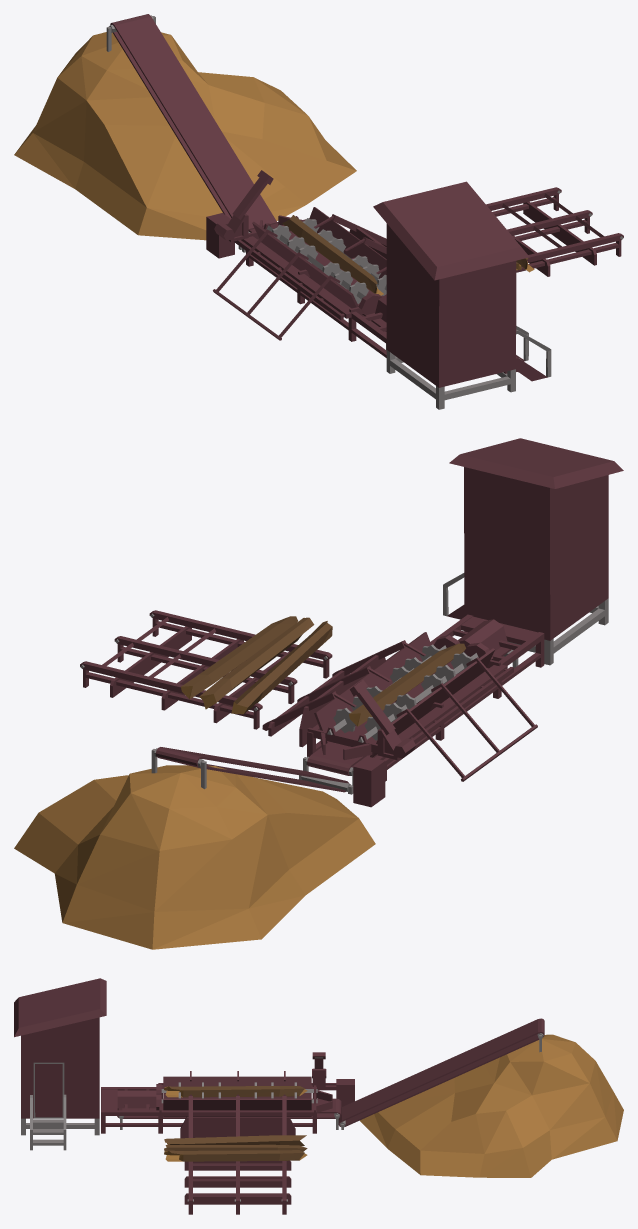
Rendered from SM_Debarker.fbx.
The picture shows the model from 3 angles, top to bottom: view 1: azimuth 30°, elevation 25°; view 2: azimuth 150°, elevation 25°; view 3: azimuth 270°, elevation 25°; orthographic projection. The views are drawn at different scales.
Visible parts, largest first — view 1: SM_Debarker_Base, SM_Debarker_Wheels_B, SM_Debarker_Arm, SM_Debarker_Wheels_A; view 2: SM_Debarker_Base, SM_Debarker_Wheels_B, SM_Debarker_Arm, SM_Debarker_Wheels_A; view 3: SM_Debarker_Base, SM_Debarker_Arm.
Boxes of the visible parts, x1=… form: SM_Debarker_Base: x1=14, y1=14, x2=623, y2=409; SM_Debarker_Wheels_B: x1=266, y1=224, x2=368, y2=303; SM_Debarker_Arm: x1=214, y1=170, x2=273, y2=242; SM_Debarker_Wheels_A: x1=303, y1=218, x2=386, y2=295; SM_Debarker_Base: x1=14, y1=438, x2=623, y2=949; SM_Debarker_Wheels_B: x1=358, y1=652, x2=478, y2=742; SM_Debarker_Arm: x1=350, y1=680, x2=415, y2=760; SM_Debarker_Wheels_A: x1=327, y1=644, x2=446, y2=735; SM_Debarker_Base: x1=14, y1=978, x2=623, y2=1214; SM_Debarker_Arm: x1=312, y1=1052, x2=326, y2=1086.
Bounding box in the file's own units: 10.96 × 5.06 × 21.82.
